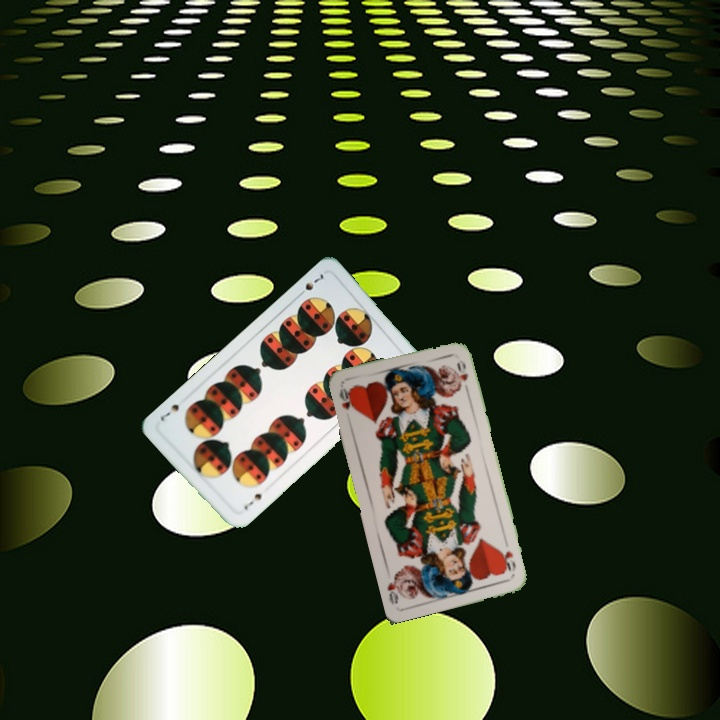HO: (335, 384, 357, 414), (497, 545, 519, 574)
S7: (294, 269, 326, 299), (240, 489, 266, 513)
